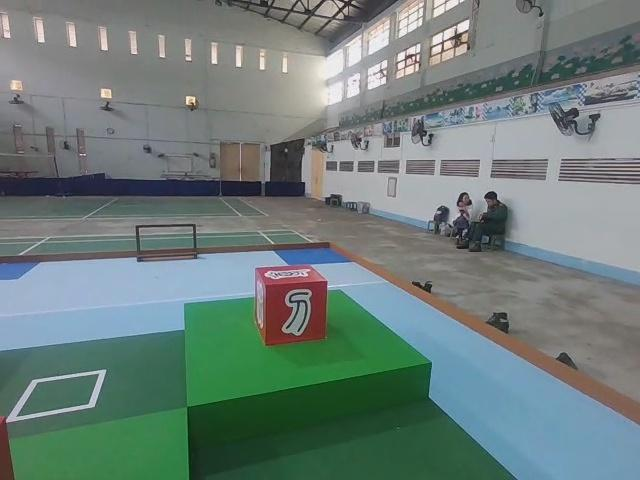R2 Fake: (255, 265, 332, 349)
